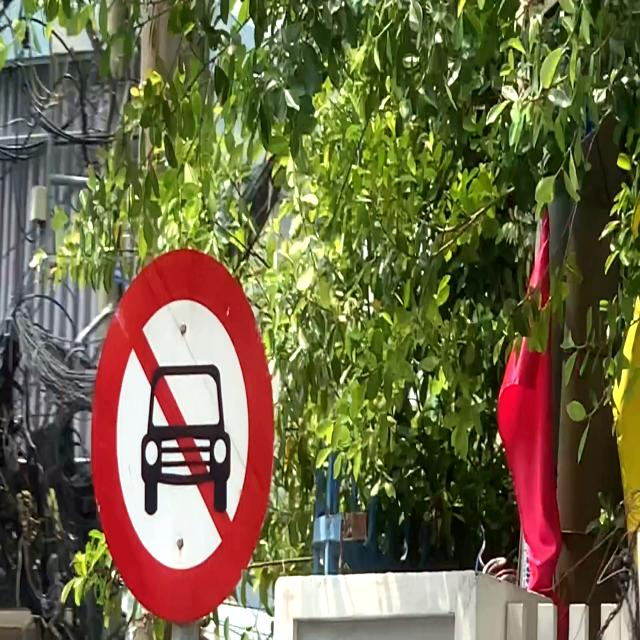P.103a: (90, 247, 275, 625)
